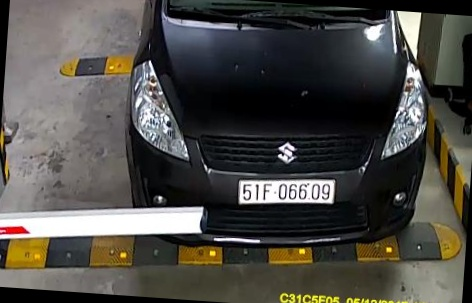plate: (234, 168, 340, 214)
